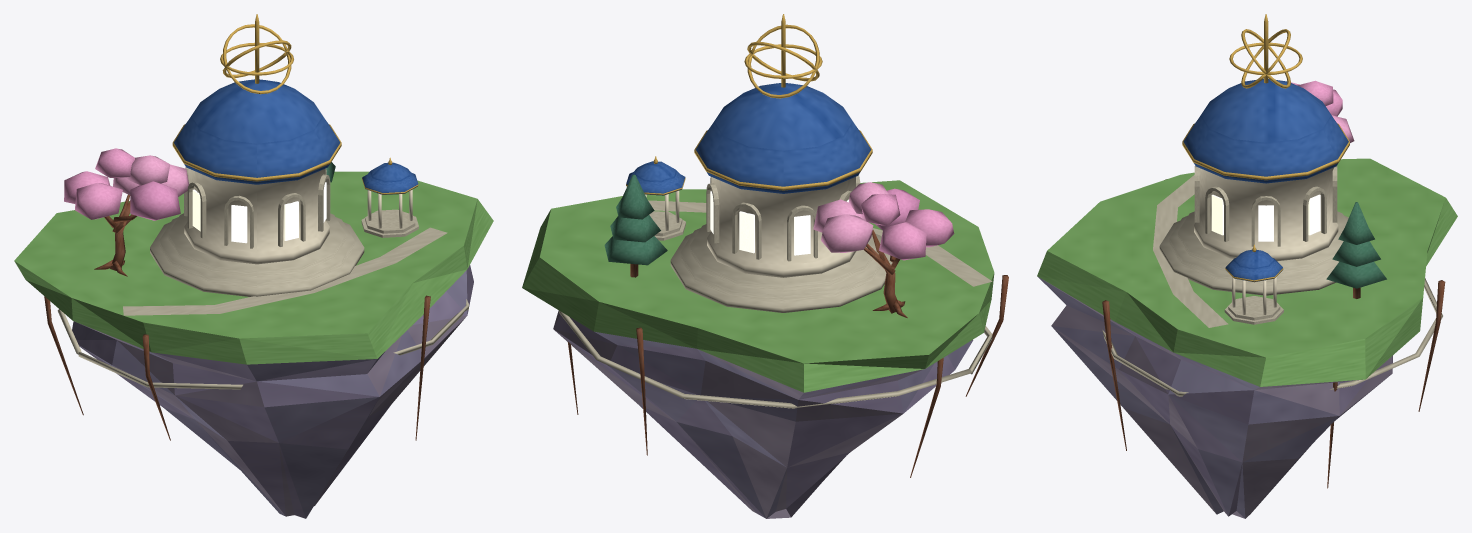
Rendered from sky-observatory-low.glb.
3 renders of one model, left to right at view 1: azimuth 30°, elevation 25°; view 2: azimuth 150°, elevation 25°; view 3: azimuth 270°, elevation 25°, orthographic. The views are drawn at different scales.
Parts seen in each view (by area): view 1: sky-observatory; view 2: sky-observatory; view 3: sky-observatory.
Part boxes in pixels (bbox=[...]): sky-observatory: bbox=[14, 14, 493, 518]; sky-observatory: bbox=[522, 14, 1008, 518]; sky-observatory: bbox=[1037, 14, 1457, 518].
Bounding box in the file's own units: 12.34 × 13.69 × 10.68.
Materials: 10 (10 with a texture image).
